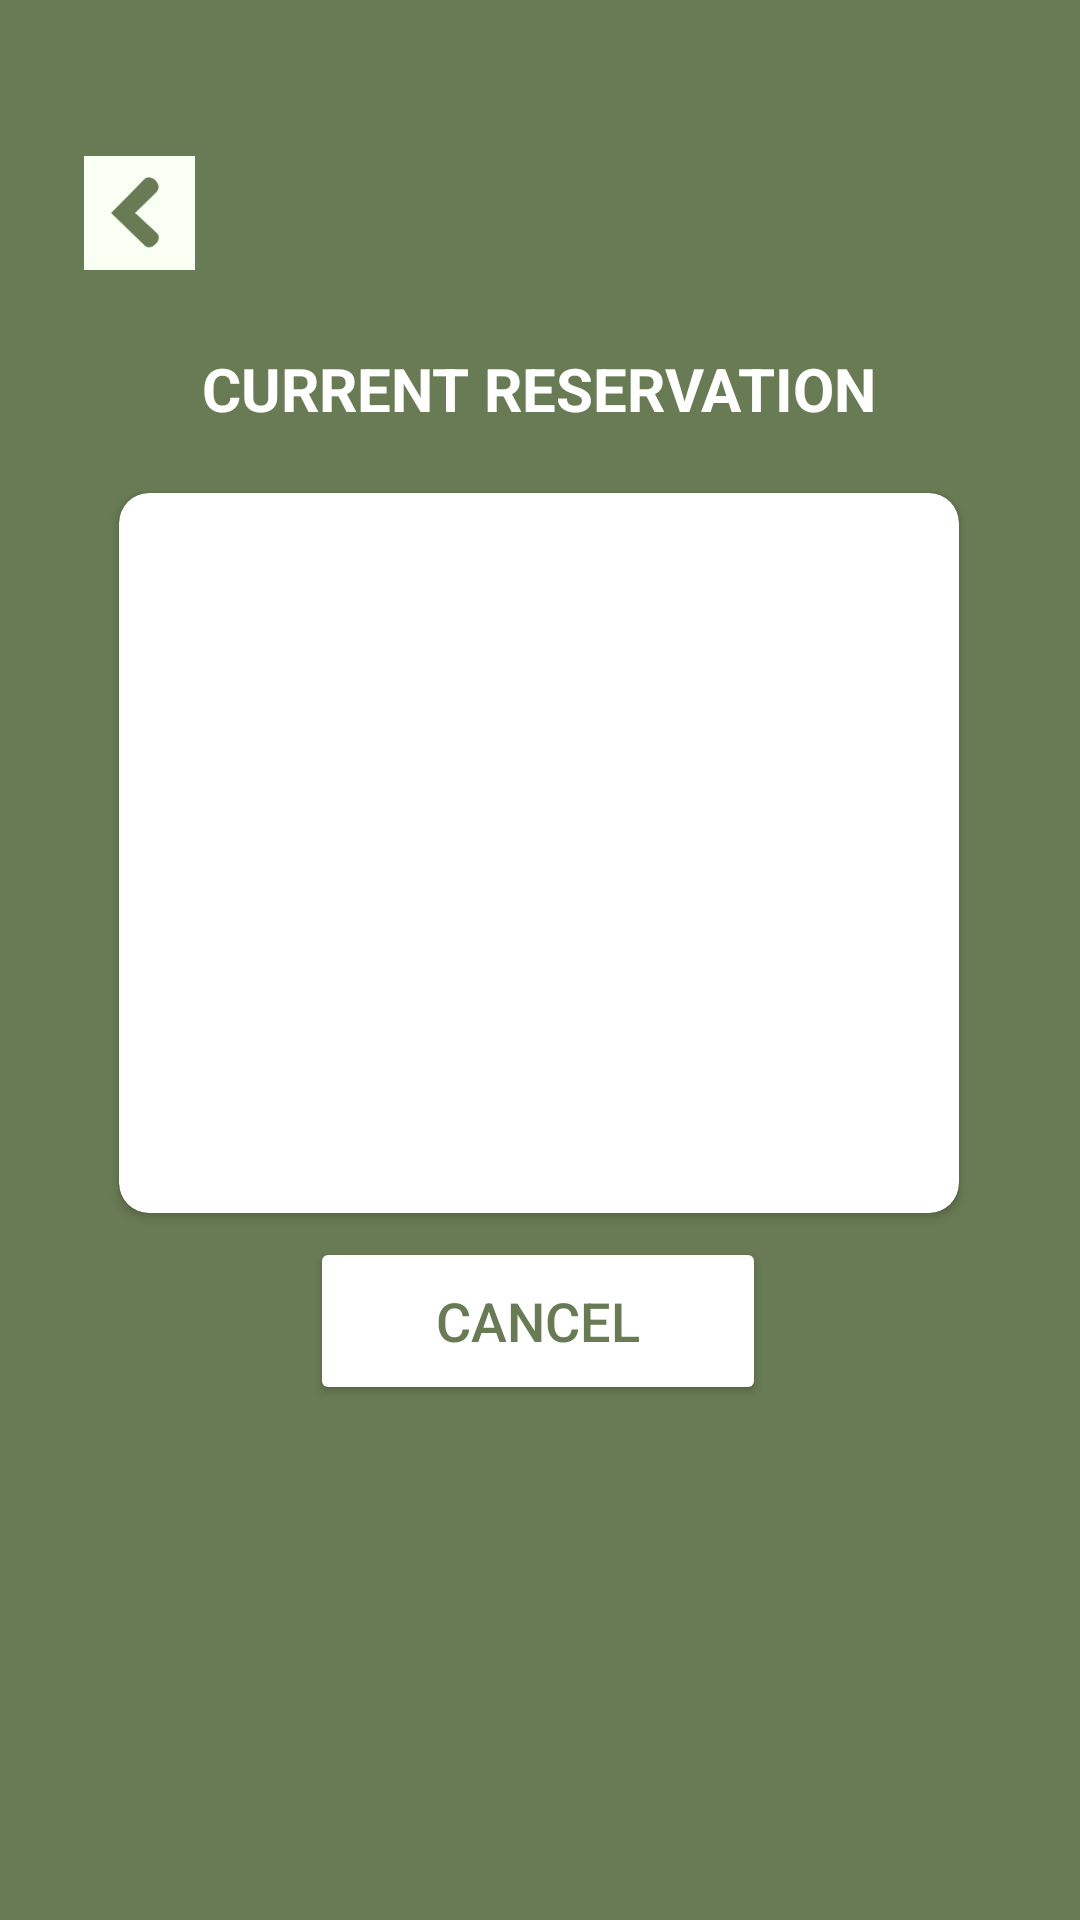

Screen size 1080px×1920px. Icon name, then its center in pixels as [x,y]:
back: [139,213]
